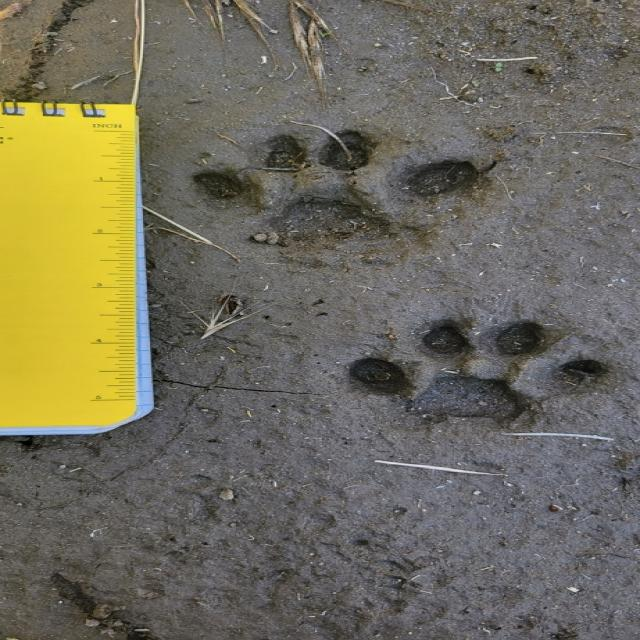felid: (214, 132, 472, 248), (356, 321, 616, 424)
